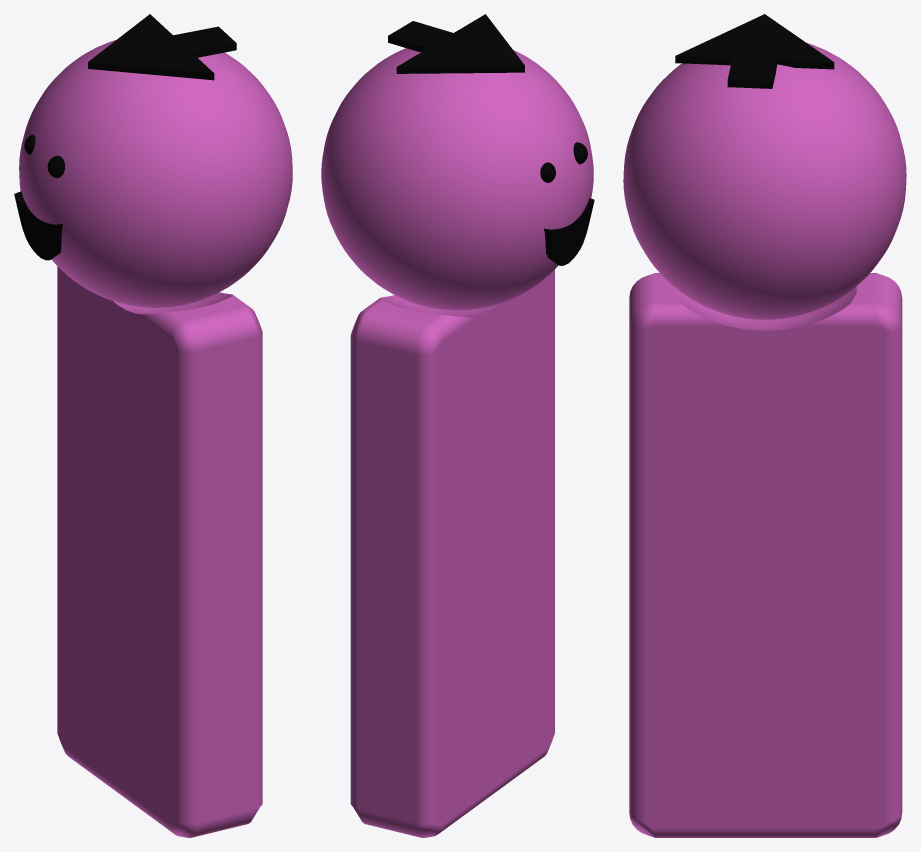
The model's file is pink_happy.obj.
3 renders of one model, left to right at view 1: azimuth 30°, elevation 25°; view 2: azimuth 150°, elevation 25°; view 3: azimuth 270°, elevation 25°, orthographic. The views are drawn at different scales.
Visible parts, largest first — view 1: 1_Curve.002_Curve.004, 5.002_Curve.002_Curve.003_5.002_Curve.002_Curve.004; view 2: 1_Curve.002_Curve.004, 5.002_Curve.002_Curve.003_5.002_Curve.002_Curve.004; view 3: 1_Curve.002_Curve.004, 5.002_Curve.002_Curve.003_5.002_Curve.002_Curve.004.
Boxes of the visible parts, x1=… form: 1_Curve.002_Curve.004: x1=19, y1=35, x2=292, y2=837; 5.002_Curve.002_Curve.003_5.002_Curve.002_Curve.004: x1=14, y1=14, x2=236, y2=260; 1_Curve.002_Curve.004: x1=321, y1=48, x2=593, y2=837; 5.002_Curve.002_Curve.003_5.002_Curve.002_Curve.004: x1=388, y1=14, x2=594, y2=265; 1_Curve.002_Curve.004: x1=623, y1=43, x2=906, y2=837; 5.002_Curve.002_Curve.003_5.002_Curve.002_Curve.004: x1=675, y1=14, x2=834, y2=88.
Size of the model in its own units: 0.1662 by 0.4993 by 0.1661.
